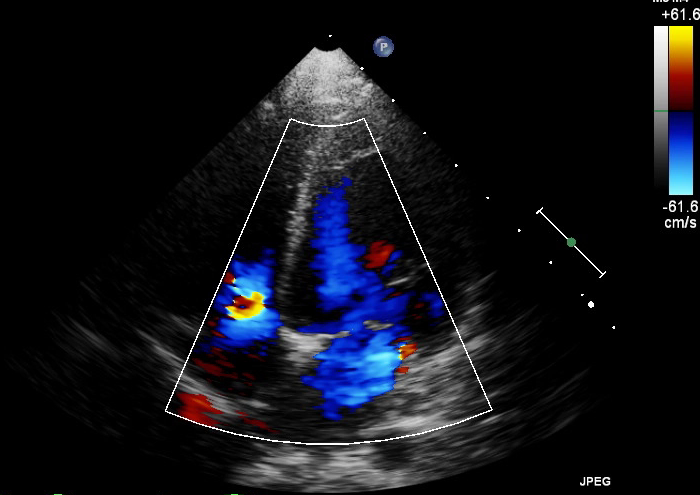MR: (214, 274, 278, 349)
